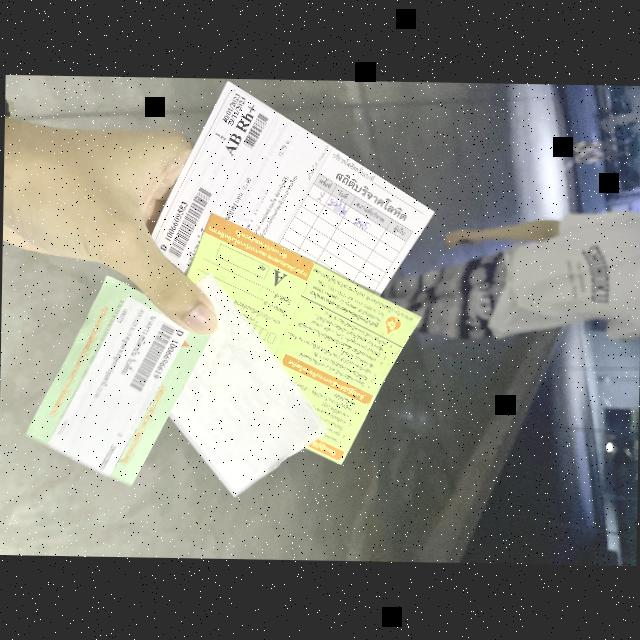scrap_paper: (156, 79, 434, 308), (190, 216, 422, 470), (21, 271, 215, 488), (158, 270, 322, 492)
